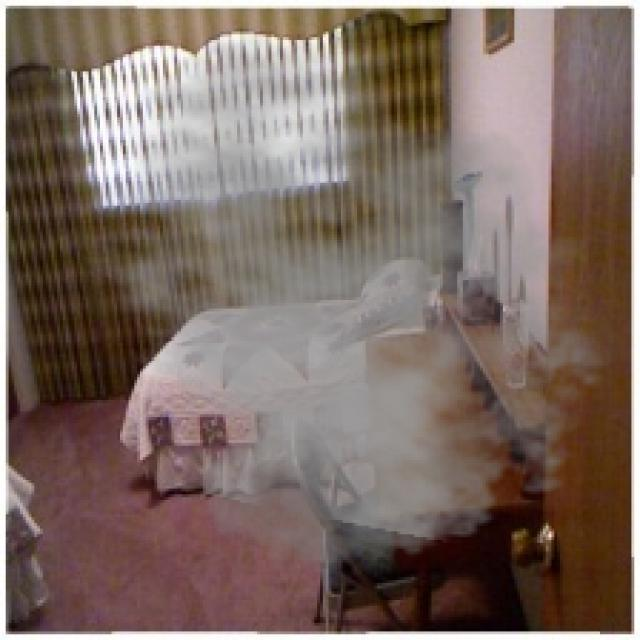Smoke: (60, 31, 629, 580)
